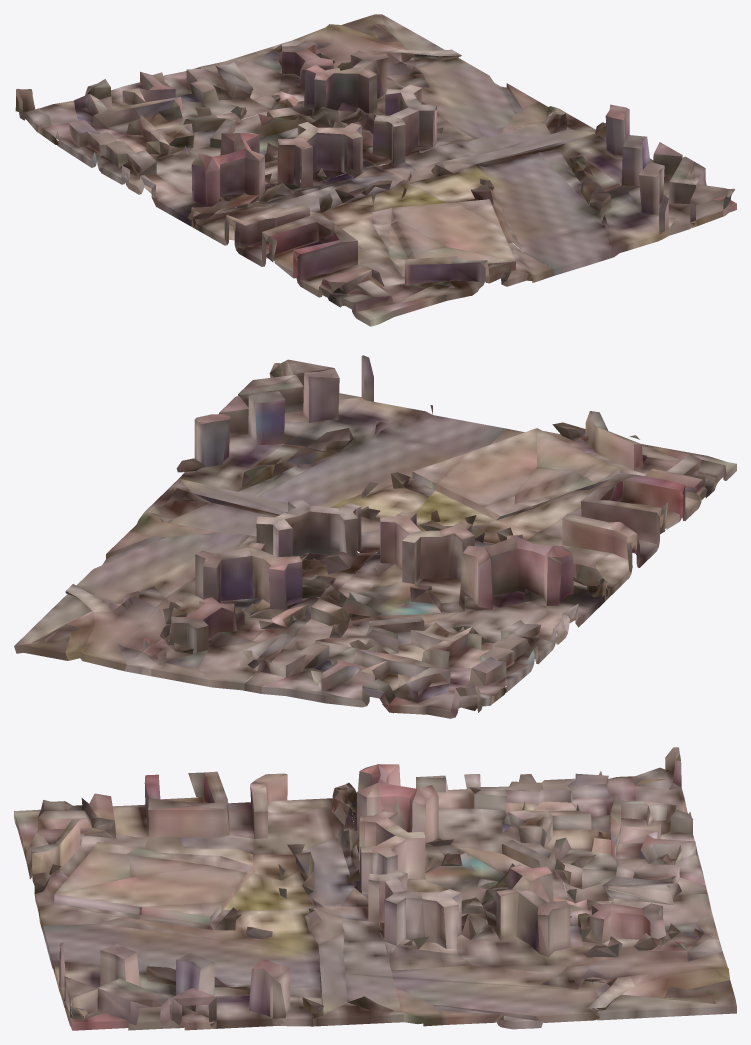
3 views of the same model, one above another, from view 1: azimuth 30°, elevation 25°; view 2: azimuth 150°, elevation 25°; view 3: azimuth 270°, elevation 25° (orthographic). The views are drawn at different scales.
Visible parts, largest first — view 1: Mesh_0; view 2: Mesh_0; view 3: Mesh_0.
Part boxes in pixels (x1=…): Mesh_0: x1=15, y1=14, x2=736, y2=326; Mesh_0: x1=14, y1=355, x2=736, y2=718; Mesh_0: x1=14, y1=747, x2=736, y2=1030.
Size of the model in its own units: 535 by 74.5 by 659.
Materials: 1 (1 with a texture image).
